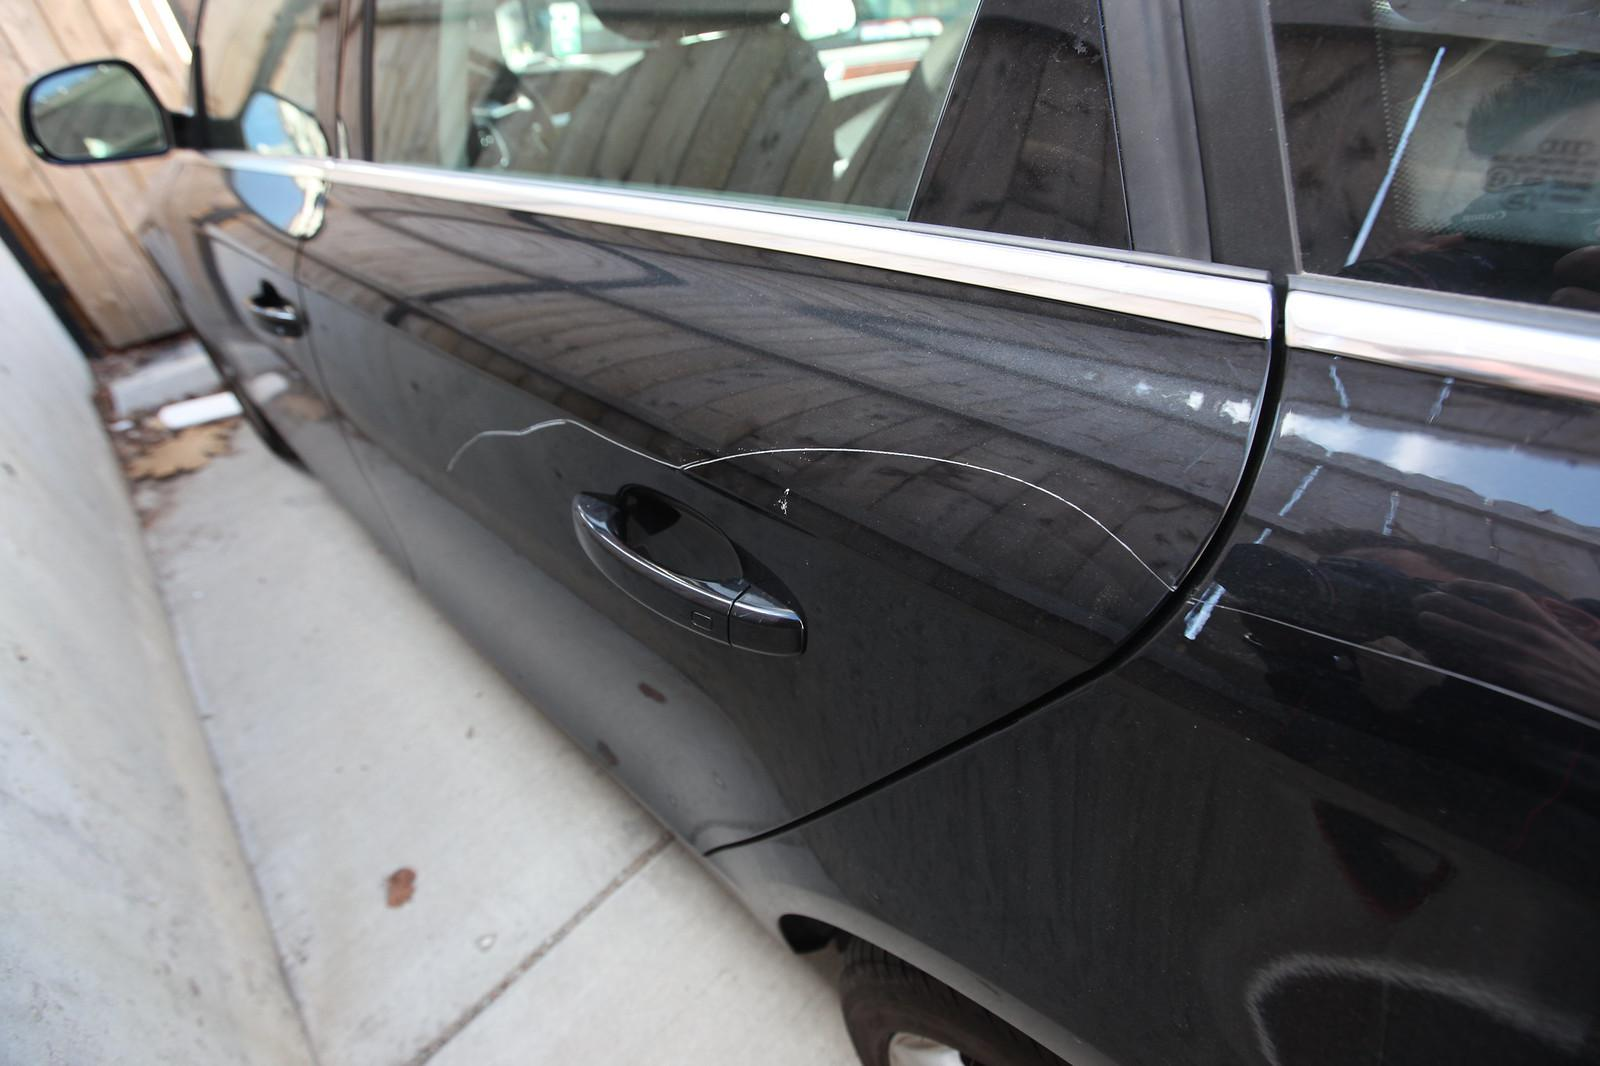doorouter-dent: (346, 268, 1272, 813)
